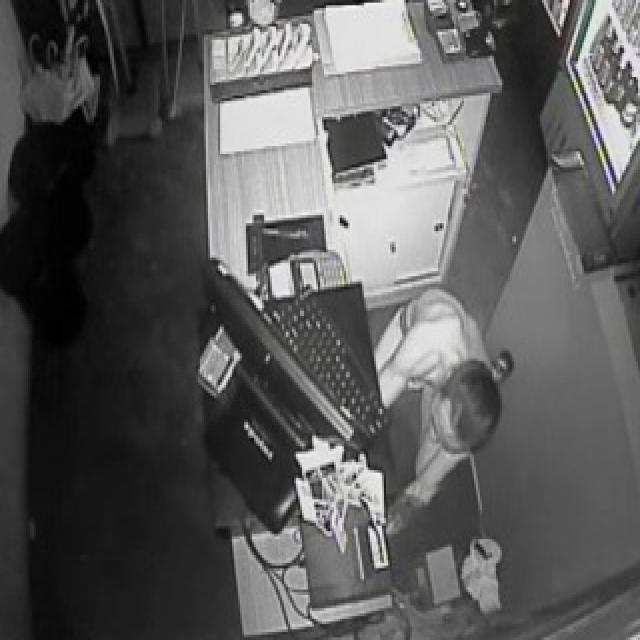thief: (415, 314, 521, 496)
